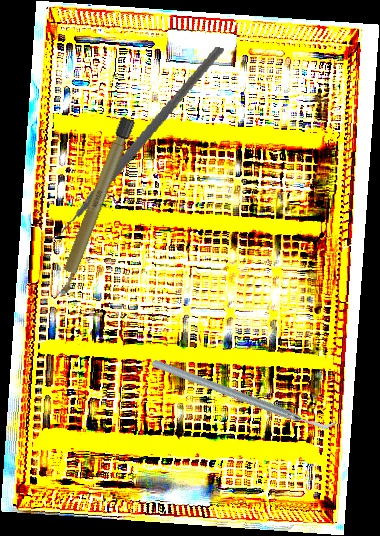Chopper: (33, 23, 225, 262), (149, 299, 341, 489)
Scalpel Handle: (52, 115, 136, 302)
